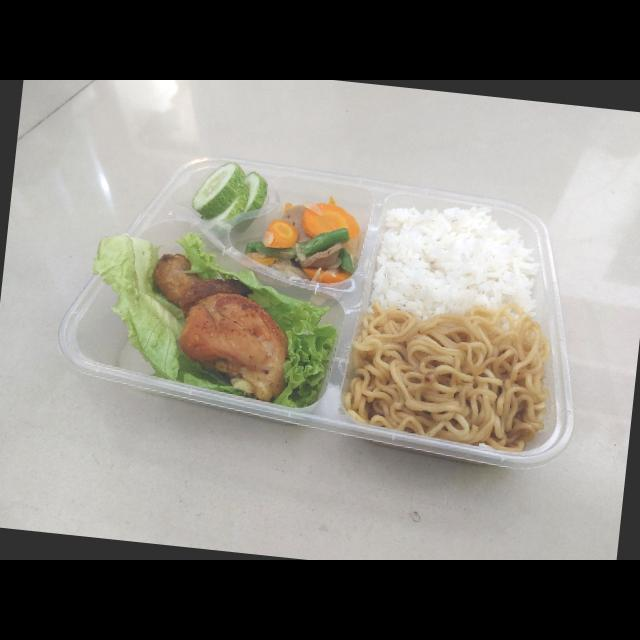bento: (38, 146, 581, 482)
